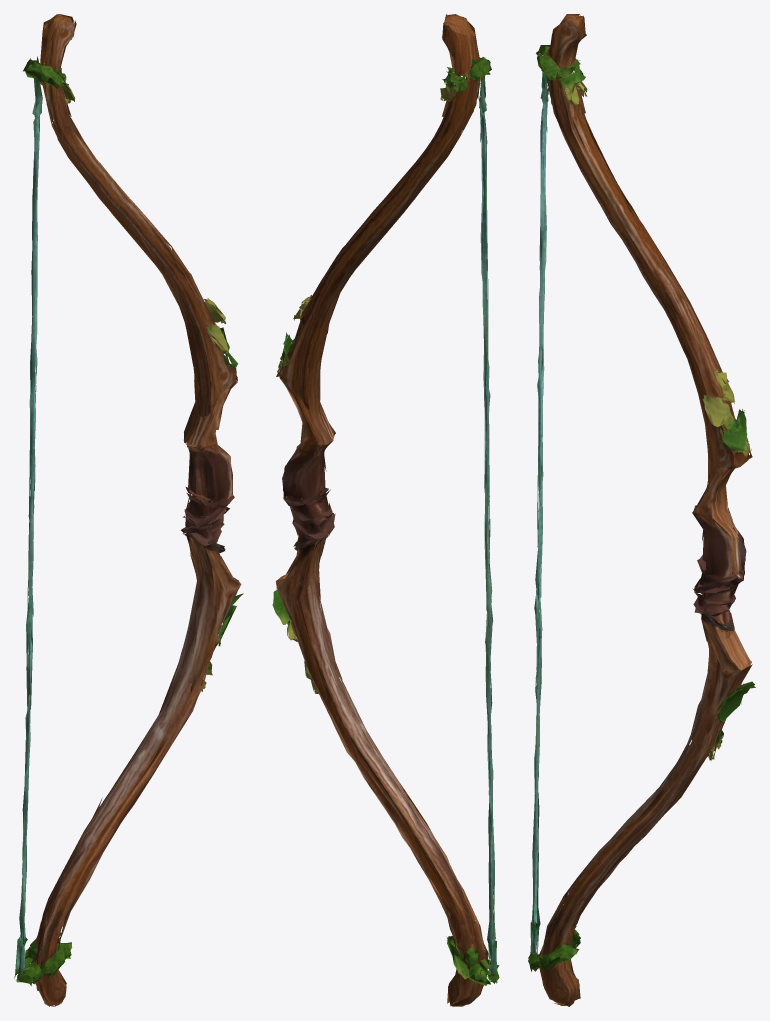
Rendered from wren_bow_mobile.glb.
The picture shows the model from 3 angles, left to right: view 1: azimuth 30°, elevation 25°; view 2: azimuth 150°, elevation 25°; view 3: azimuth 330°, elevation 25°; orthographic projection.
Visible parts, largest first — view 1: wren_bow_mobile; view 2: wren_bow_mobile; view 3: wren_bow_mobile.
Part boxes in pixels (x1,y1,x2,y2): wren_bow_mobile: (14, 14, 243, 1006); wren_bow_mobile: (272, 14, 499, 1006); wren_bow_mobile: (528, 14, 755, 1006).
Size of the model in its own units: 0.3221 by 1.35 by 0.0693.
Materials: 1 (1 with a texture image).
